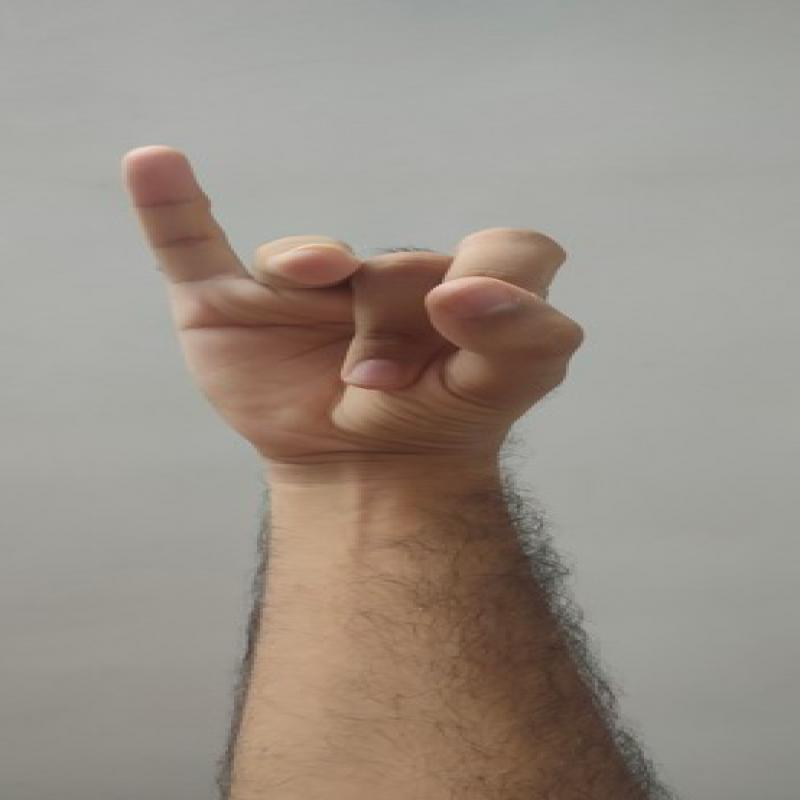Katakam: (109, 134, 594, 458)
